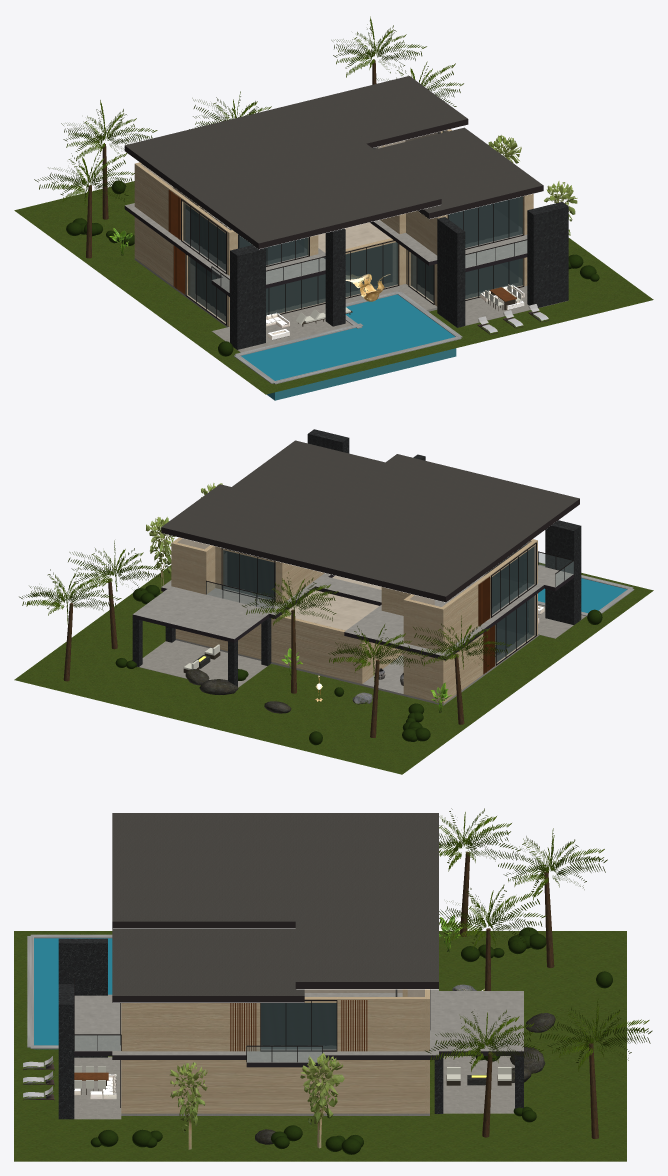
The model's file is celine.glb.
3 views of the same model, one above another, from view 1: azimuth 30°, elevation 25°; view 2: azimuth 150°, elevation 25°; view 3: azimuth 270°, elevation 25° (orthographic). The views are drawn at different scales.
Visible parts, largest first — view 1: m_Material_16, m_Material_19, m_Material_12, m_Material_8, m_Material_10, m_Material_6, m_Material_2, m_Material_27, m_Material_14, m_Material_1, m_Material_9, m_Material_5 (+10 smaller); view 2: m_Material_16, m_Material_19, m_Material_6, m_Material_14, m_Material_27, m_Material_12, m_Material_8, m_Material_10, m_Material_7, m_Material_1, m_Material_26, m_Material_25 (+7 smaller); view 3: m_Material_16, m_Material_19, m_Material_6, m_Material_14, m_Material_27, m_Material_12, m_Material_1, m_Material_25, m_Material_8, m_Material_0.008, m_Material_10, m_Material_2 (+10 smaller).
Part boxes in pixels (x1,y1,x2,y2): m_Material_16: [124, 76, 543, 248]; m_Material_19: [14, 181, 653, 394]; m_Material_12: [230, 202, 568, 349]; m_Material_8: [183, 131, 522, 322]; m_Material_10: [190, 132, 517, 315]; m_Material_6: [134, 129, 533, 326]; m_Material_2: [241, 294, 455, 380]; m_Material_27: [34, 16, 463, 204]; m_Material_14: [124, 203, 527, 296]; m_Material_1: [212, 284, 568, 352]; m_Material_9: [181, 196, 527, 325]; m_Material_5: [234, 291, 462, 384]; m_Material_16: [161, 440, 579, 602]; m_Material_19: [14, 562, 653, 774]; m_Material_6: [171, 537, 537, 703]; m_Material_14: [132, 552, 573, 660]; m_Material_27: [19, 540, 511, 680]; m_Material_12: [132, 429, 581, 686]; m_Material_8: [223, 543, 534, 663]; m_Material_10: [225, 544, 527, 654]; m_Material_7: [177, 538, 535, 635]; m_Material_1: [137, 604, 585, 687]; m_Material_26: [63, 578, 464, 737]; m_Material_25: [115, 585, 602, 745]; m_Material_16: [112, 813, 438, 1002]; m_Material_19: [14, 931, 626, 1161]; m_Material_6: [121, 989, 429, 1113]; m_Material_14: [74, 989, 523, 1067]; m_Material_27: [425, 808, 652, 1071]; m_Material_12: [58, 938, 523, 1119]; m_Material_1: [74, 1056, 514, 1119]; m_Material_25: [90, 927, 612, 1154]; m_Material_8: [261, 1003, 336, 1049]; m_Material_0.008: [169, 1053, 344, 1149]; m_Material_10: [261, 989, 397, 1045]; m_Material_2: [34, 938, 112, 1045].
Size of the model in its own units: 35.36 by 10.3 by 37.65.
33 materials, 33 textured.
